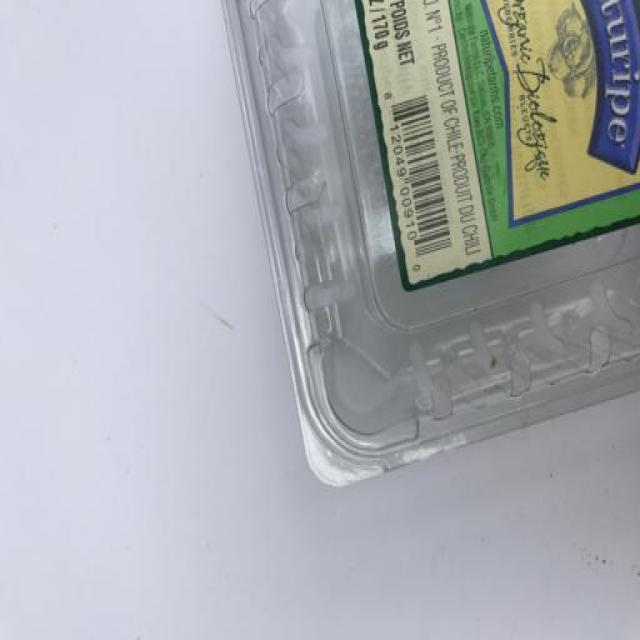plastic_bag: (208, 1, 640, 499)
